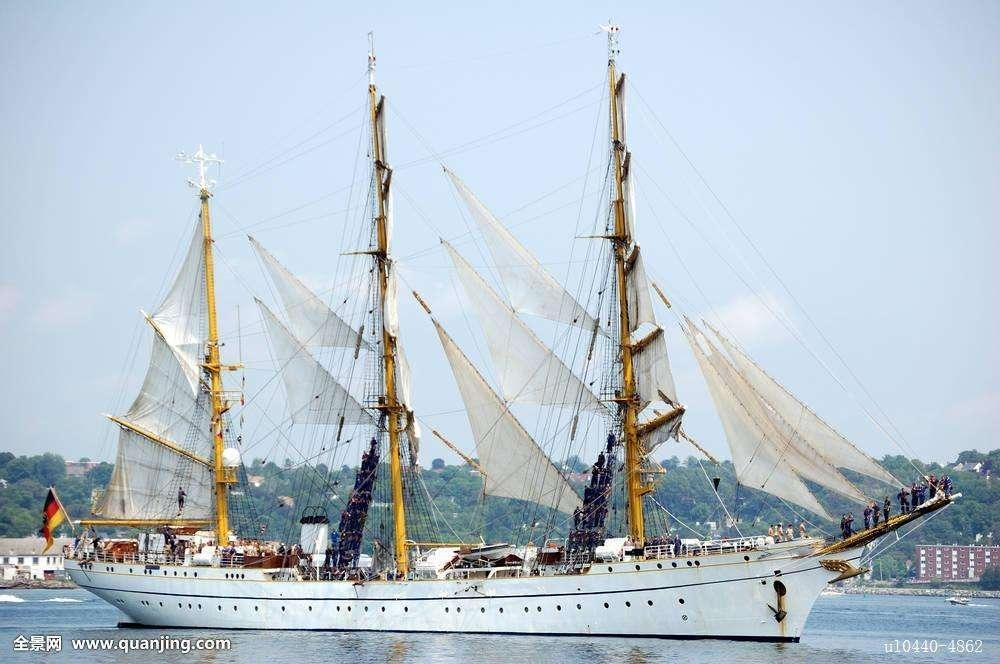fanchuan: (46, 20, 957, 628)
